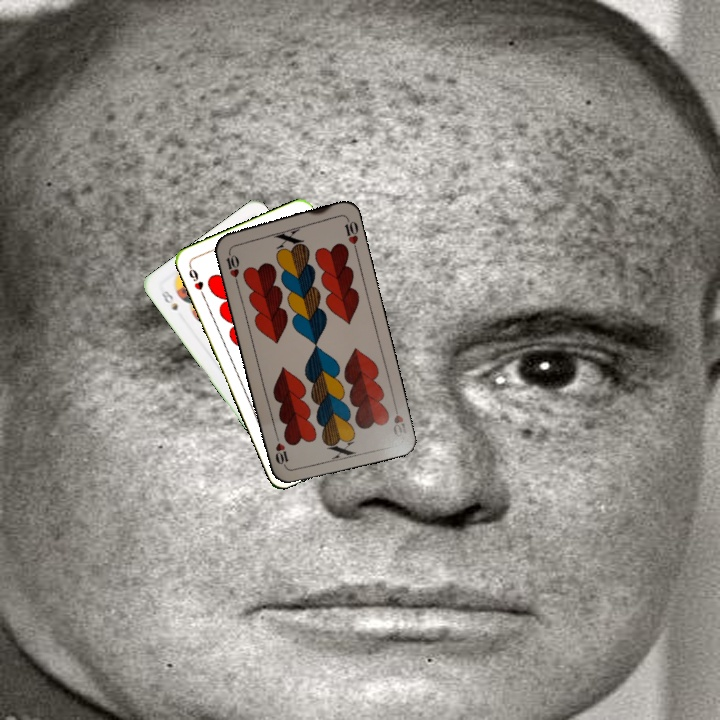H10: (389, 399, 410, 439), (222, 245, 242, 286)
H9: (185, 262, 208, 300)
S8: (157, 287, 181, 313)
